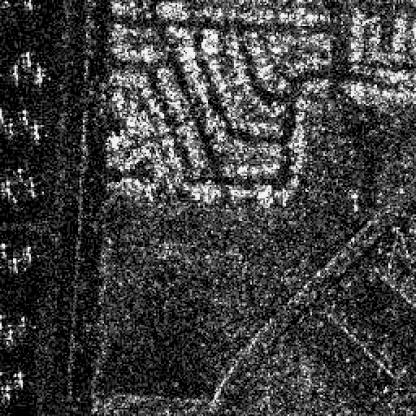airplane: (24, 176, 40, 198), (8, 61, 23, 84), (28, 122, 44, 143), (0, 179, 16, 198), (13, 166, 29, 185), (10, 369, 26, 388), (31, 63, 45, 83), (20, 47, 32, 67), (3, 328, 18, 343), (21, 242, 33, 260), (0, 385, 13, 401), (10, 255, 22, 271), (3, 121, 15, 136), (18, 109, 29, 125), (20, 0, 34, 10), (0, 240, 8, 257), (0, 164, 2, 179)
